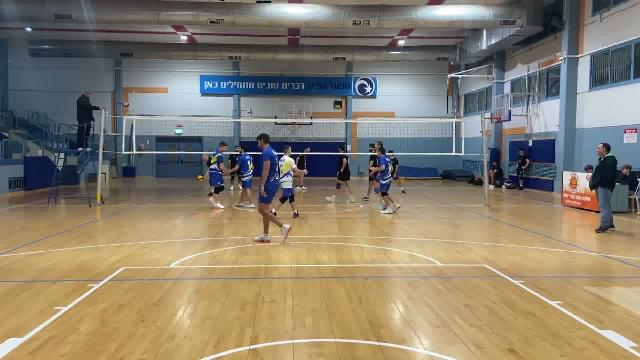ball: (193, 173, 204, 183)
